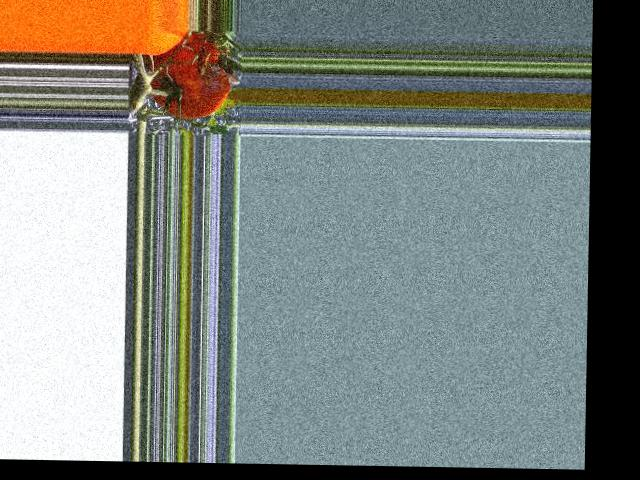tomato: (149, 31, 233, 119)
